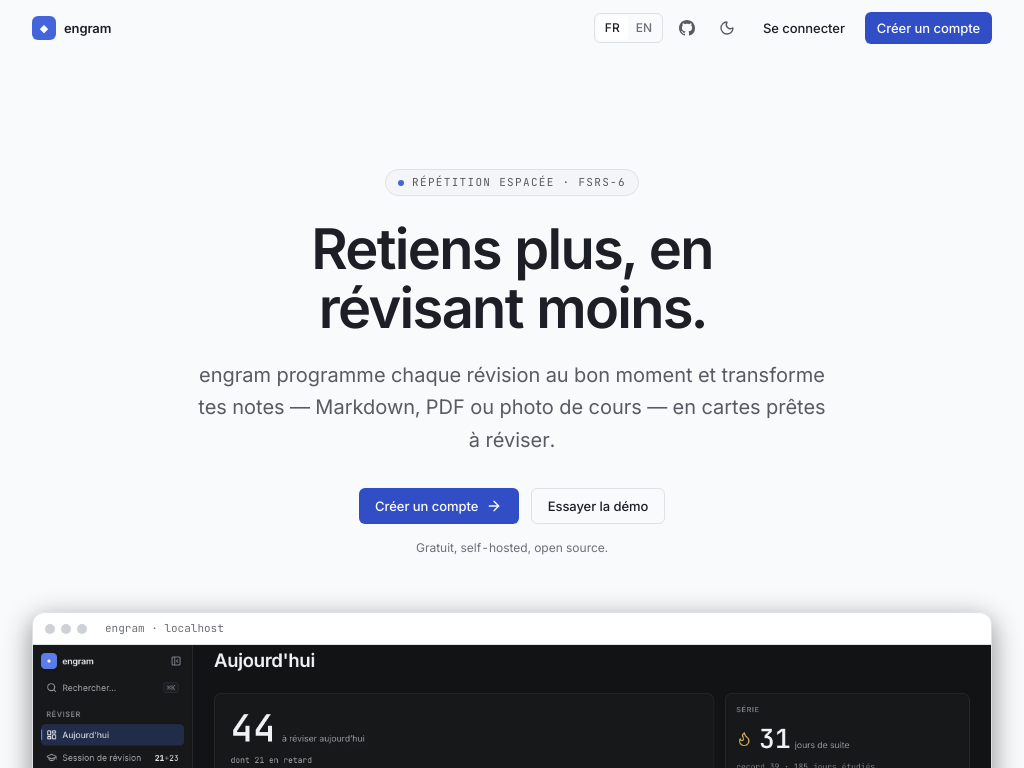
Test: <LandingPage> — demo CTA › shows a pending label and disables the button while opening the session
Click the button "Essayer la démo". click: (598, 506)
box: [531,488,665,524]
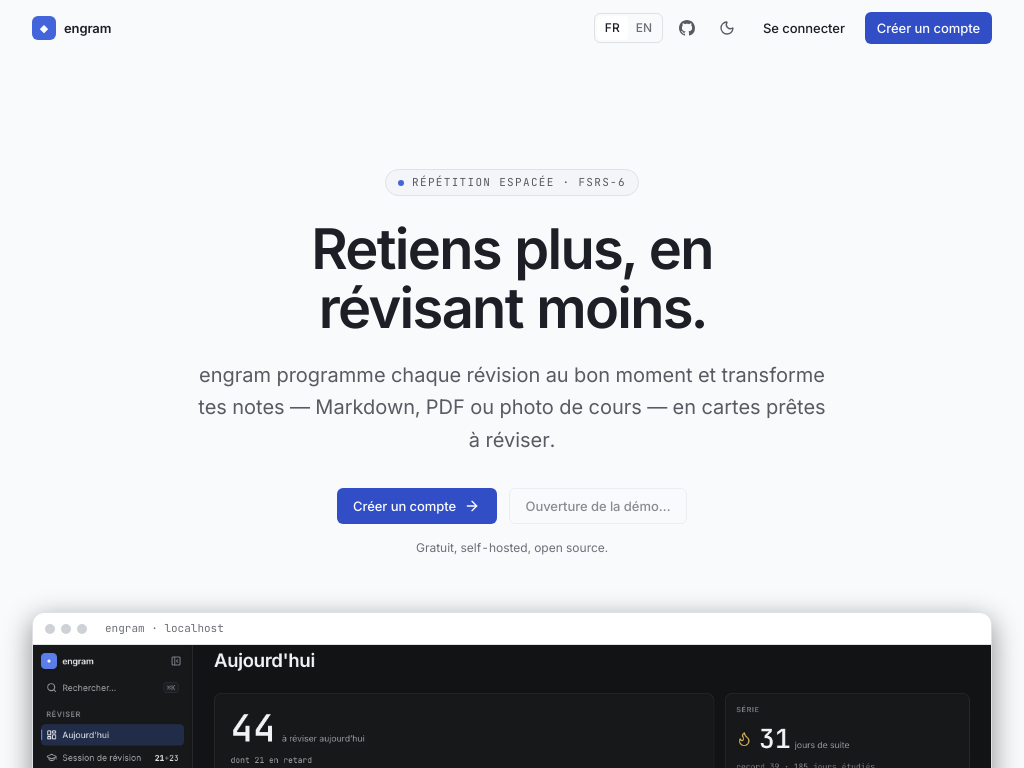
Expected: the button "Ouverture de la démo…" is disabled, [508,488,687,524]
